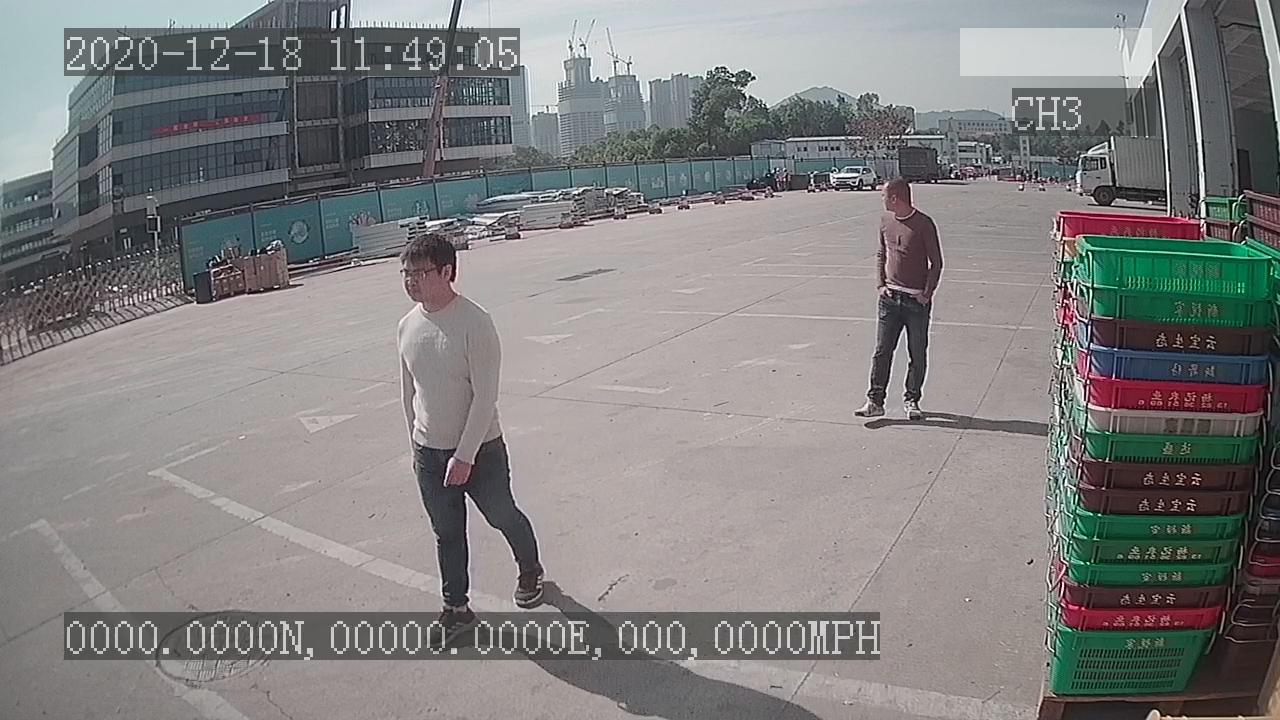person: (851, 176, 947, 420)
